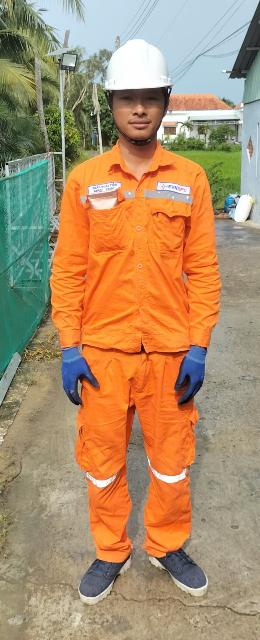gloves: (163, 333, 214, 406), (49, 340, 105, 405)
helmet: (80, 36, 190, 99)
shoes: (139, 537, 212, 600), (67, 546, 140, 608)
